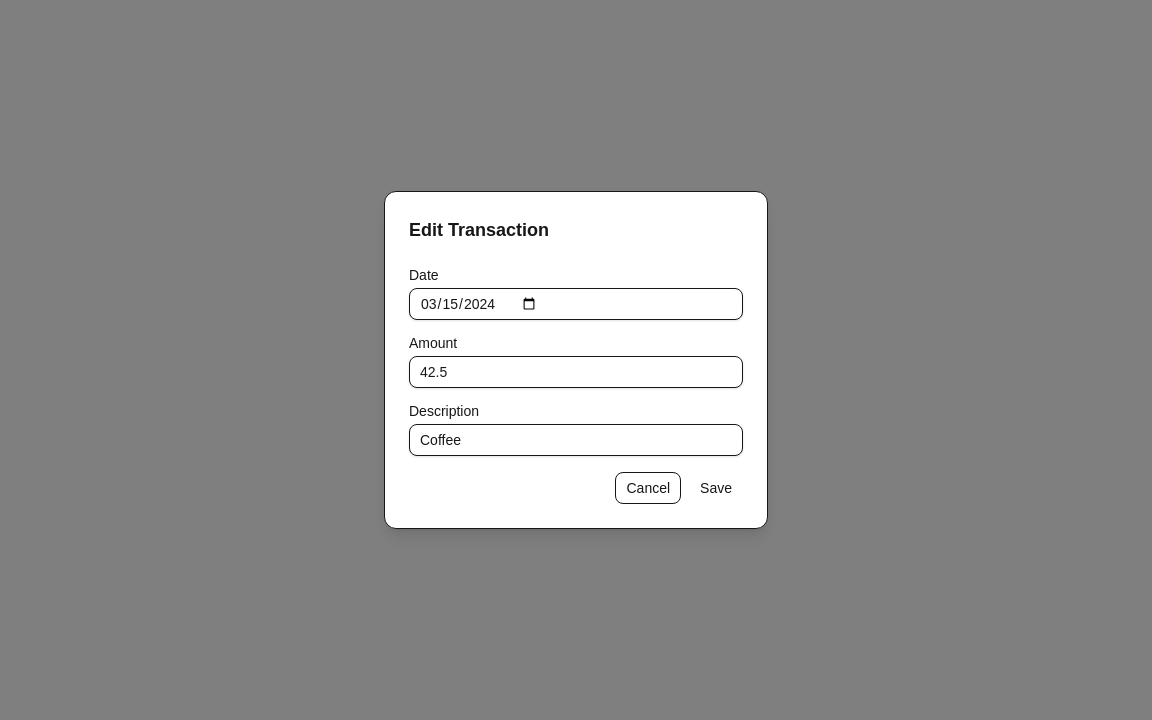
Test: EditTransactionDialog container — validation › shows the amount-invalid error when the amount is not a positive number
The width and height of the screenshot is (1152, 720).
Step 1. Replace the text in the number field labelled "Amount" with "-5" → (576, 372), box [409,356,743,388]
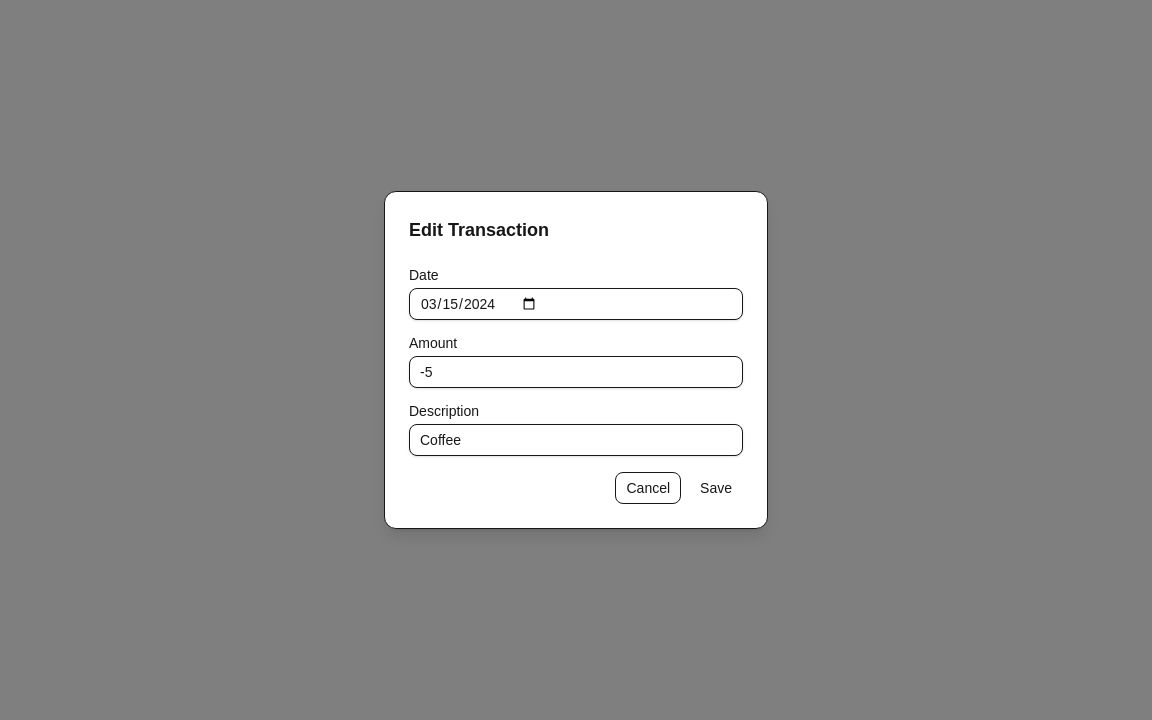
Step 2. Click the button "Save" → (716, 488), box [689,472,743,504]
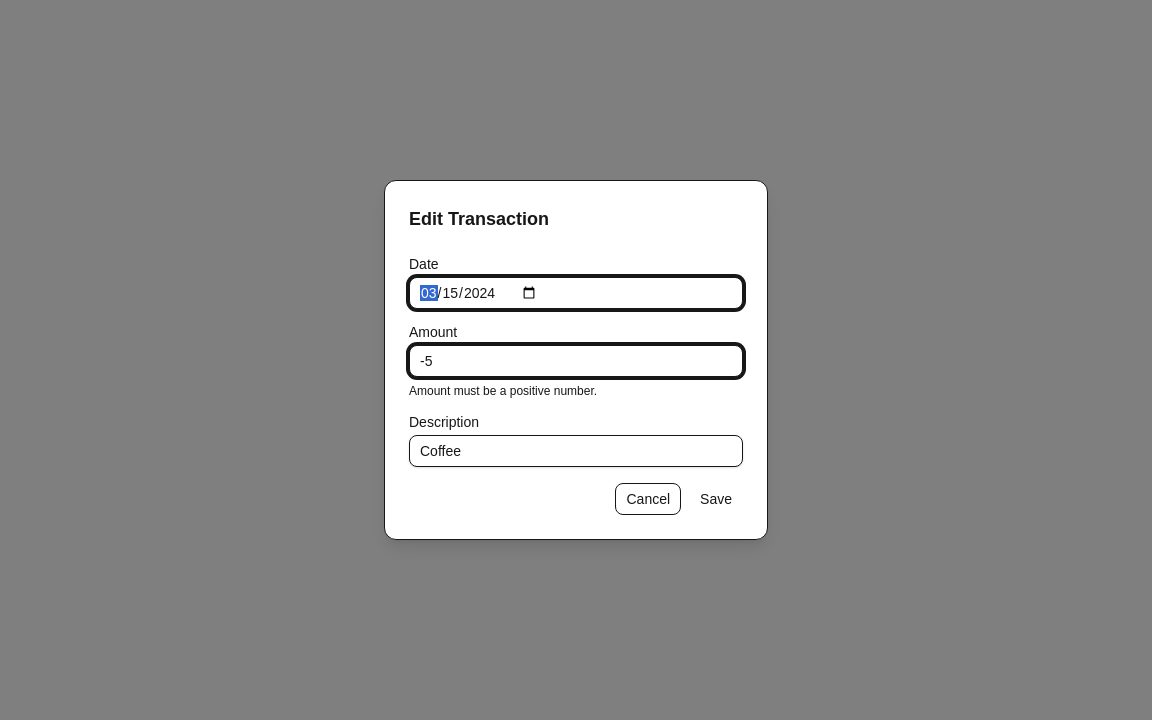
Expected: the text "Amount must be a positive number." is shown, [409,384,597,398]
